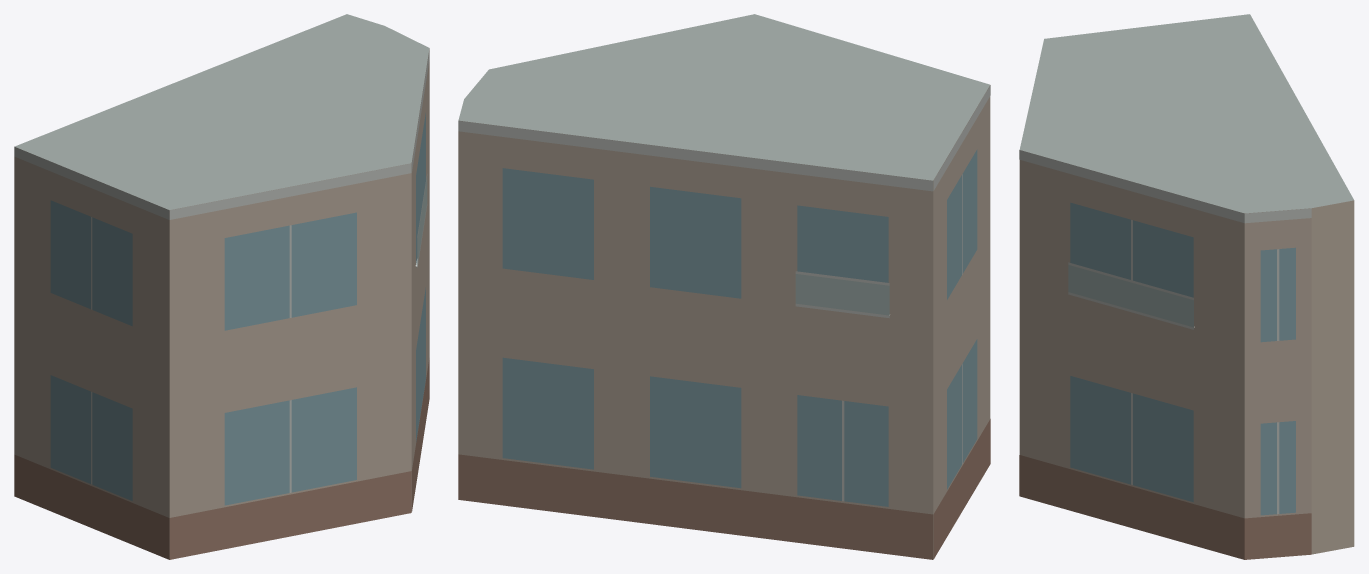
File: survey-upis-32491535.glb
3 renders of one model, left to right at view 1: azimuth 30°, elevation 25°; view 2: azimuth 150°, elevation 25°; view 3: azimuth 270°, elevation 25°, orthographic. The views are drawn at different scales.
Parts seen in each view (by area): view 1: survey-upis-32491535.tmp; view 2: survey-upis-32491535.tmp; view 3: survey-upis-32491535.tmp.
Boxes of the visible parts, x1,y1,x2,y2 form: survey-upis-32491535.tmp: [14, 14, 429, 559]; survey-upis-32491535.tmp: [458, 14, 990, 559]; survey-upis-32491535.tmp: [1019, 14, 1354, 559].
Size of the model in its own units: 10.63 by 8.6 by 7.54.
